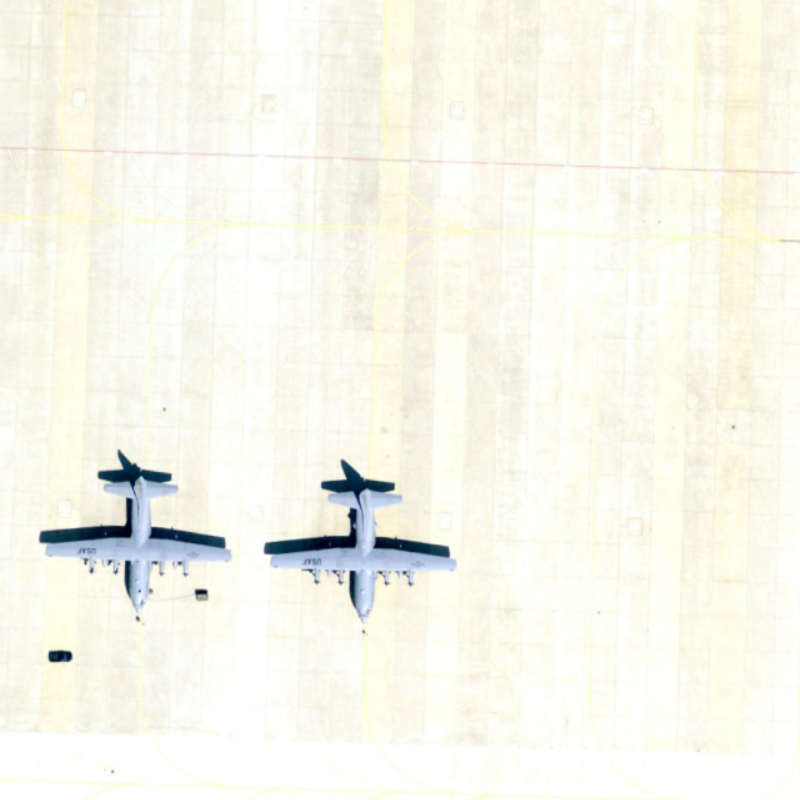A2: (35, 466, 236, 617), (261, 482, 462, 627)
